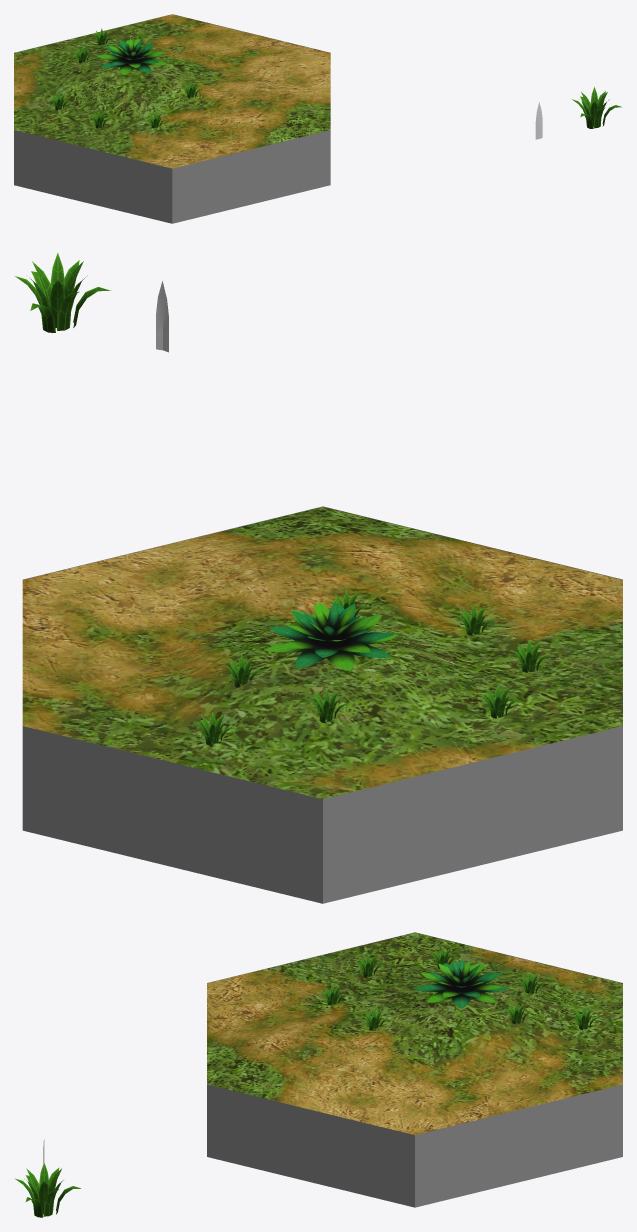
The model's file is tile_grass.FBX.
The picture shows the model from 3 angles, top to bottom: view 1: azimuth 30°, elevation 25°; view 2: azimuth 150°, elevation 25°; view 3: azimuth 270°, elevation 25°; orthographic projection. The views are drawn at different scales.
Parts seen in each view (by area): view 1: Object002, Object001, Cylinder005, Plane018; view 2: Object002, Object001, Cylinder005, Plane018; view 3: Object002, Object001, Cylinder005, Plane018.
Part boxes in pixels (x1=…): Object002: x1=14, y1=14, x2=330, y2=168; Object001: x1=14, y1=14, x2=330, y2=223; Cylinder005: x1=97, y1=38, x2=167, y2=74; Plane018: x1=572, y1=86, x2=621, y2=128; Object002: x1=22, y1=507, x2=622, y2=799; Object001: x1=22, y1=506, x2=622, y2=903; Cylinder005: x1=264, y1=601, x2=398, y2=670; Plane018: x1=15, y1=252, x2=111, y2=332; Object002: x1=207, y1=932, x2=622, y2=1134; Object001: x1=207, y1=932, x2=622, y2=1207; Cylinder005: x1=413, y1=959, x2=509, y2=1008; Plane018: x1=14, y1=1162, x2=81, y2=1217.
Bounding box in the file's own units: 262 × 51.25 × 229.
